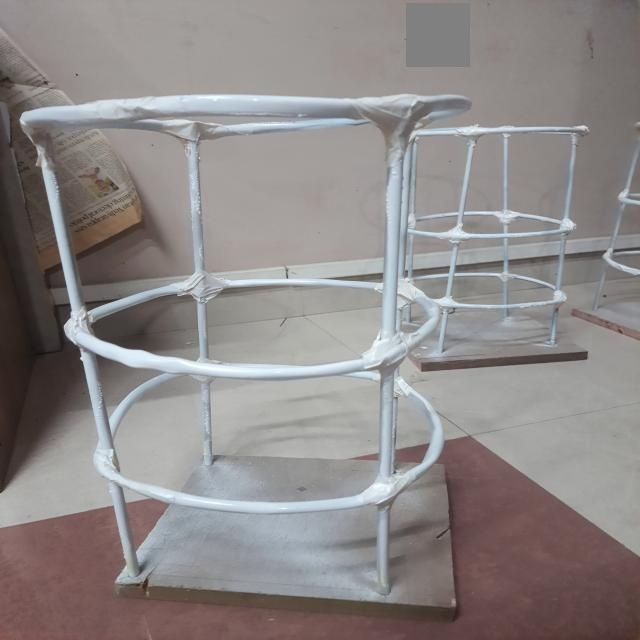silo: (10, 93, 459, 617), (394, 117, 594, 379), (582, 118, 640, 348)
